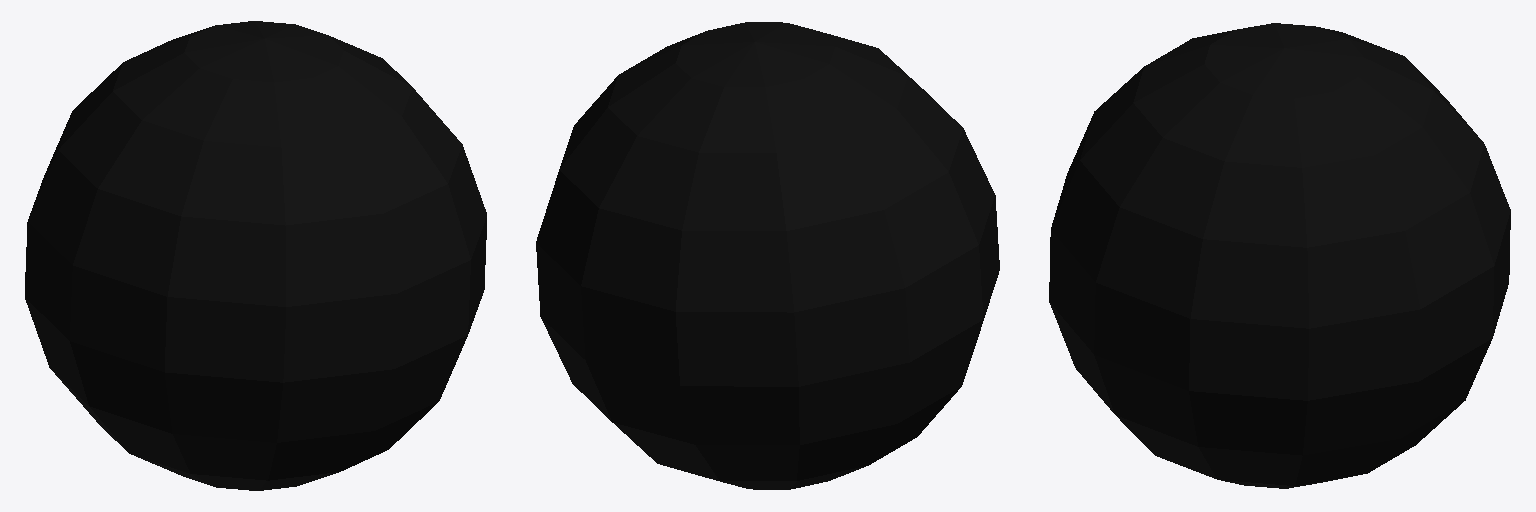
File: sun.obj
3 views of the same model, side by side, from view 1: azimuth 30°, elevation 25°; view 2: azimuth 150°, elevation 25°; view 3: azimuth 270°, elevation 25° (orthographic).
Visible parts, largest first — view 1: group[number redacted]; view 2: group[number redacted]; view 3: group[number redacted].
Part boxes in pixels (x1,y1,x2,y2): group[number redacted]: (25, 21, 486, 490); group[number redacted]: (536, 22, 999, 489); group[number redacted]: (1049, 23, 1510, 488).
Size of the model in its own units: 1 by 1.02 by 1.